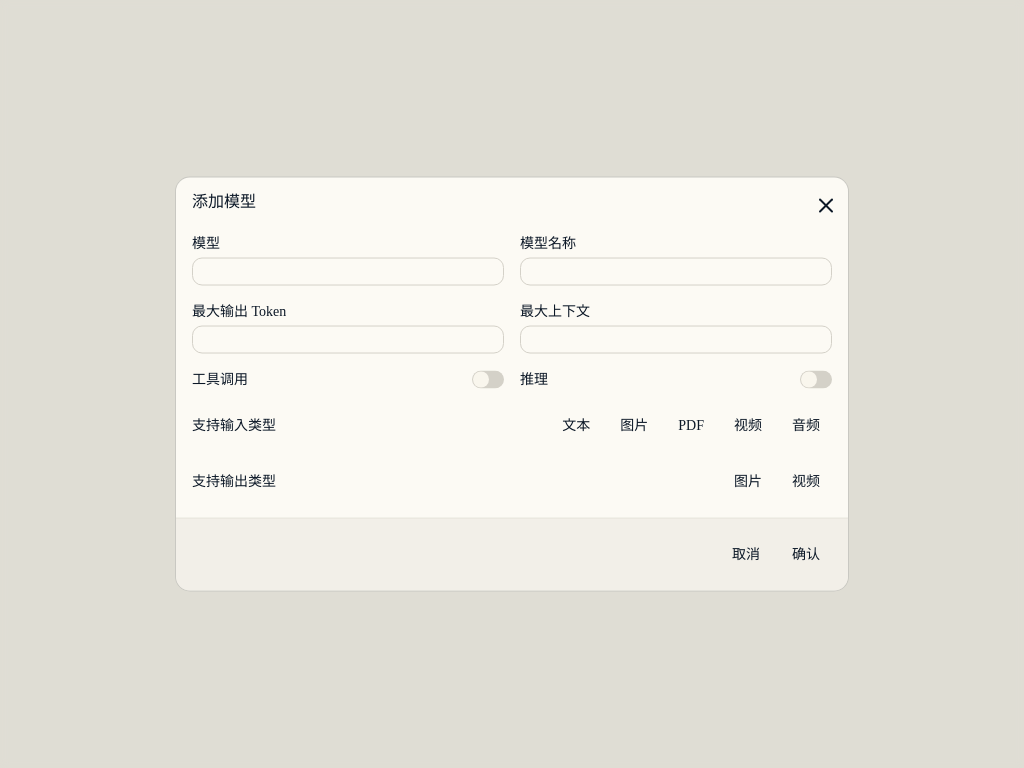
Test: addModelFormModal 推理强度 › 打开推理开关后展示全部推理强度档位
Click the switch named "推理" in the row of "推理".
click(816, 380)  # box 800,370 -> 832,389
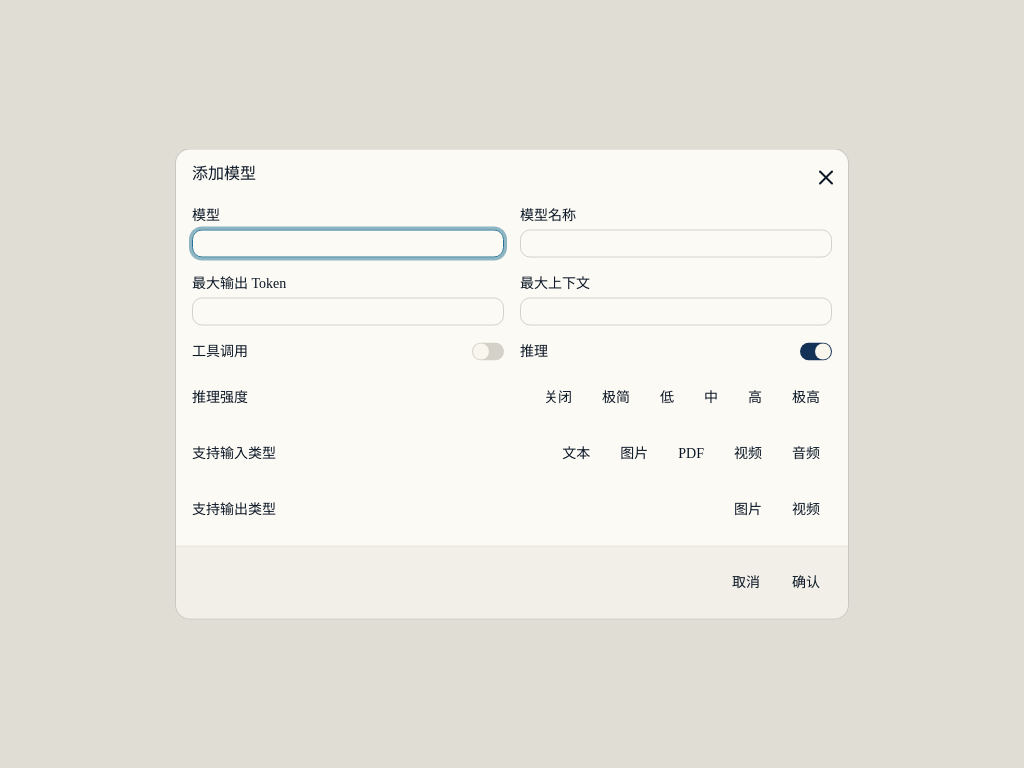
Now the text "推理强度" is shown, box 192,388 -> 248,408
Now the button named "推理强度 低" is shown, box 648,378 -> 686,418
Now the button named "推理强度 中" is shown, box 692,378 -> 730,418
